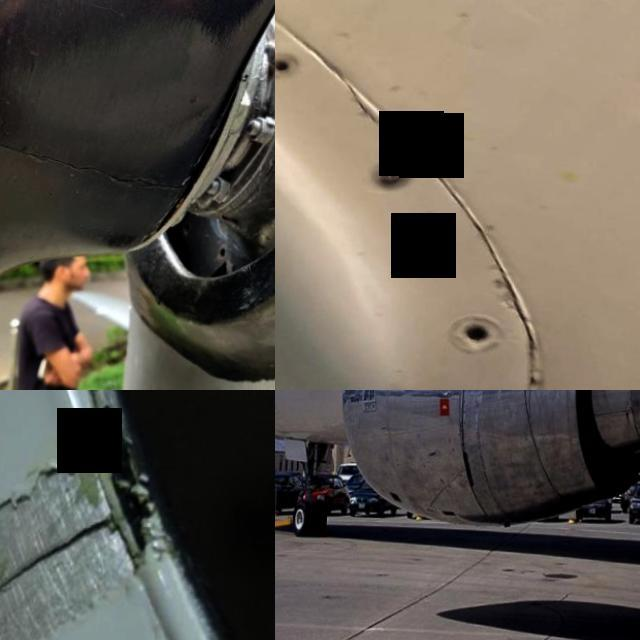Crack: (0, 104, 199, 206), (0, 489, 126, 640)
Missing_Fastener: (456, 312, 506, 354), (275, 54, 300, 74)
